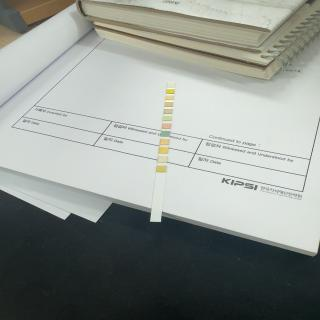mark: (158, 156, 167, 164), (158, 165, 166, 172), (160, 147, 168, 154), (160, 139, 169, 145), (161, 131, 170, 137), (162, 123, 171, 129), (164, 108, 173, 114), (166, 95, 174, 100), (163, 116, 172, 120), (165, 102, 173, 106), (167, 90, 174, 94), (168, 83, 175, 87)
